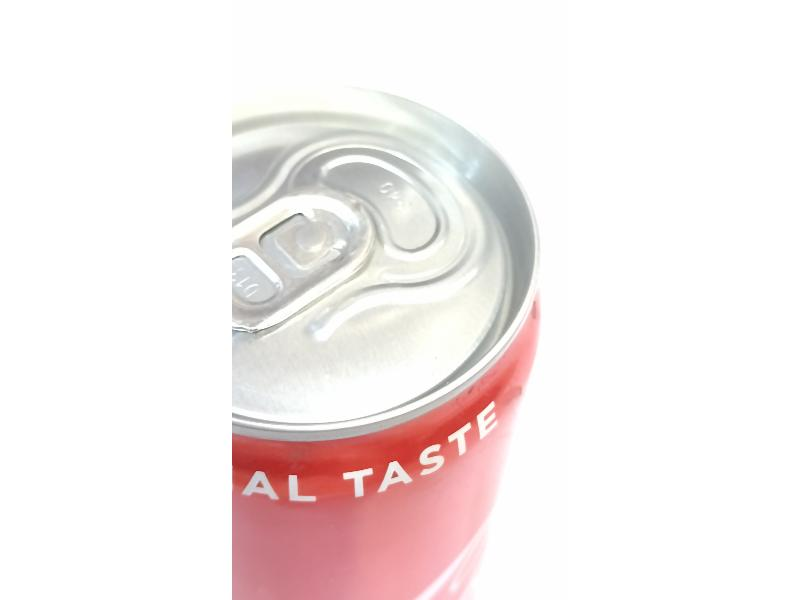can: (233, 74, 545, 580)
